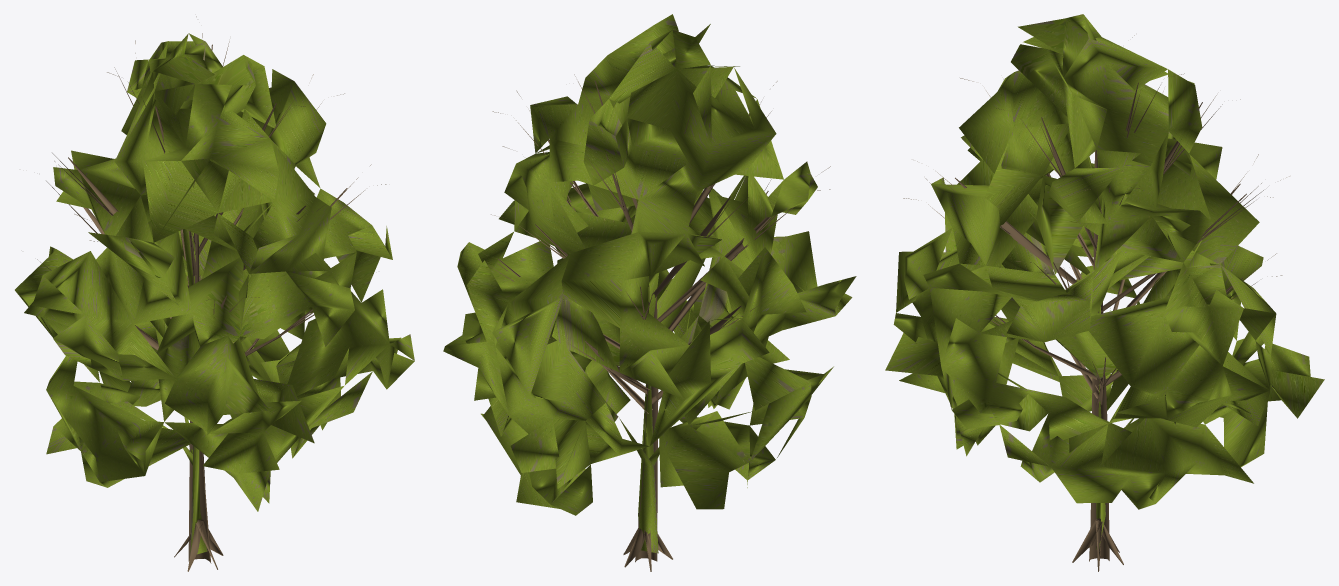
Rendered from broad-canopy-b.glb.
3 views of the same model, side by side, from view 1: azimuth 30°, elevation 25°; view 2: azimuth 150°, elevation 25°; view 3: azimuth 270°, elevation 25° (orthographic).
Size of the model in its own units: 0.6321 by 0.9876 by 0.7294.
2 materials, 1 textured.
